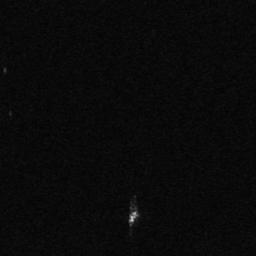ship: (126, 210, 139, 224)
